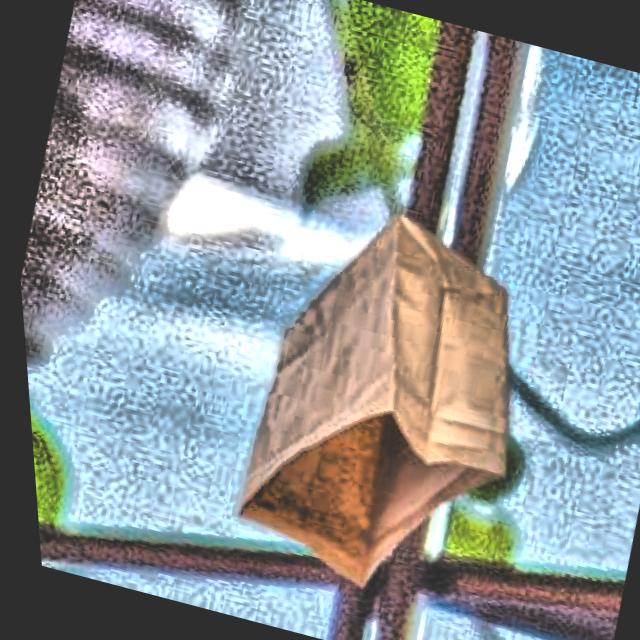Paper-bag: (180, 178, 576, 634)
